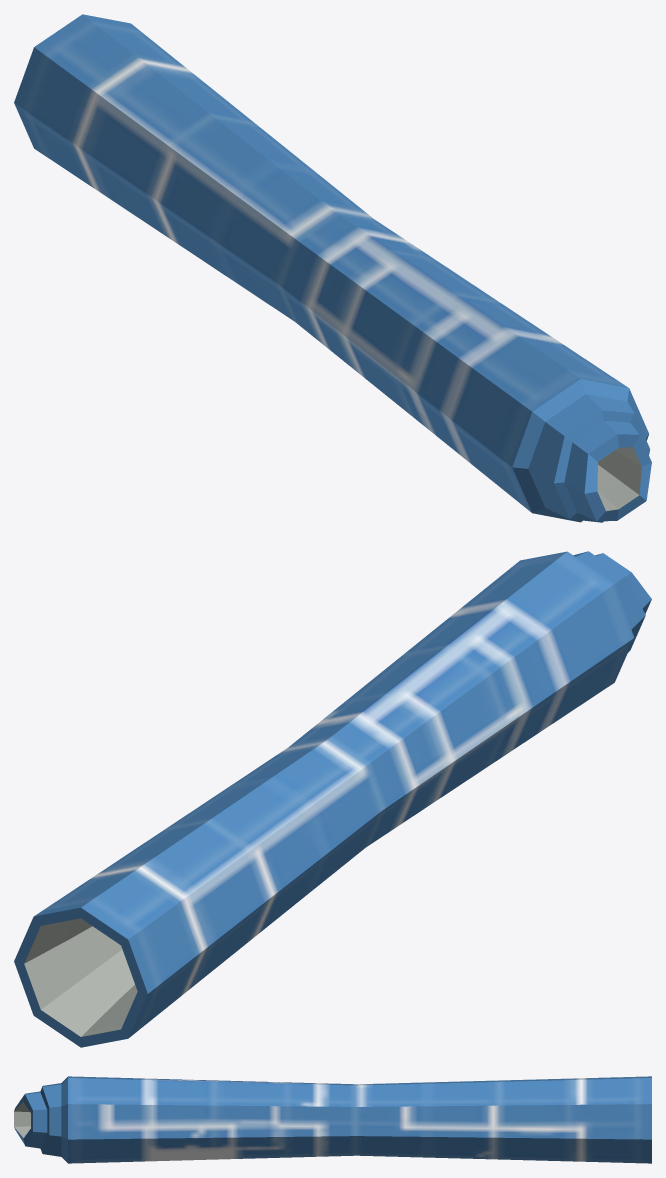
File: SM_Prop_Plans_09.obj
3 renders of one model, top to bottom at view 1: azimuth 30°, elevation 25°; view 2: azimuth 150°, elevation 25°; view 3: azimuth 270°, elevation 25°, orthographic. The views are drawn at different scales.
Visible parts, largest first — view 1: SM_Prop_Plans_09_0; view 2: SM_Prop_Plans_09_0; view 3: SM_Prop_Plans_09_0.
Boxes of the visible parts, x1,y1,x2,y2 form: SM_Prop_Plans_09_0: (14, 14, 651, 522); SM_Prop_Plans_09_0: (14, 551, 651, 1047); SM_Prop_Plans_09_0: (14, 1076, 651, 1163).
Size of the model in its own units: 0.1059 by 0.1059 by 0.728.
Materials: 1 (1 with a texture image).
